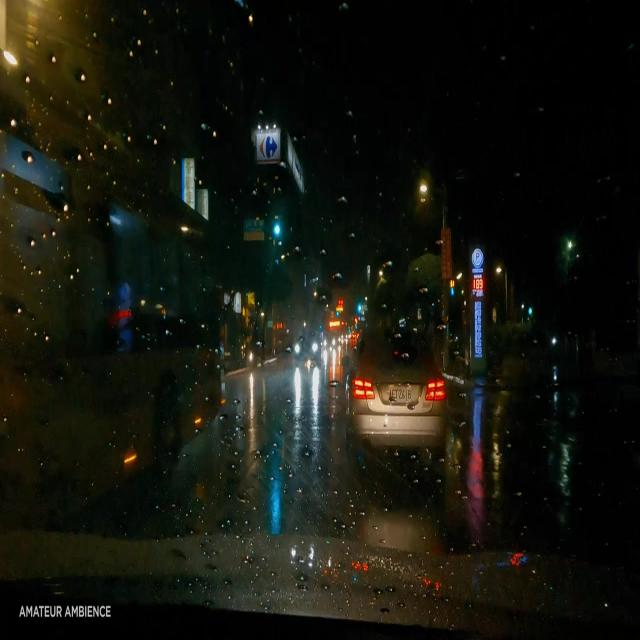Car: (346, 322, 446, 449), (294, 333, 323, 364)
